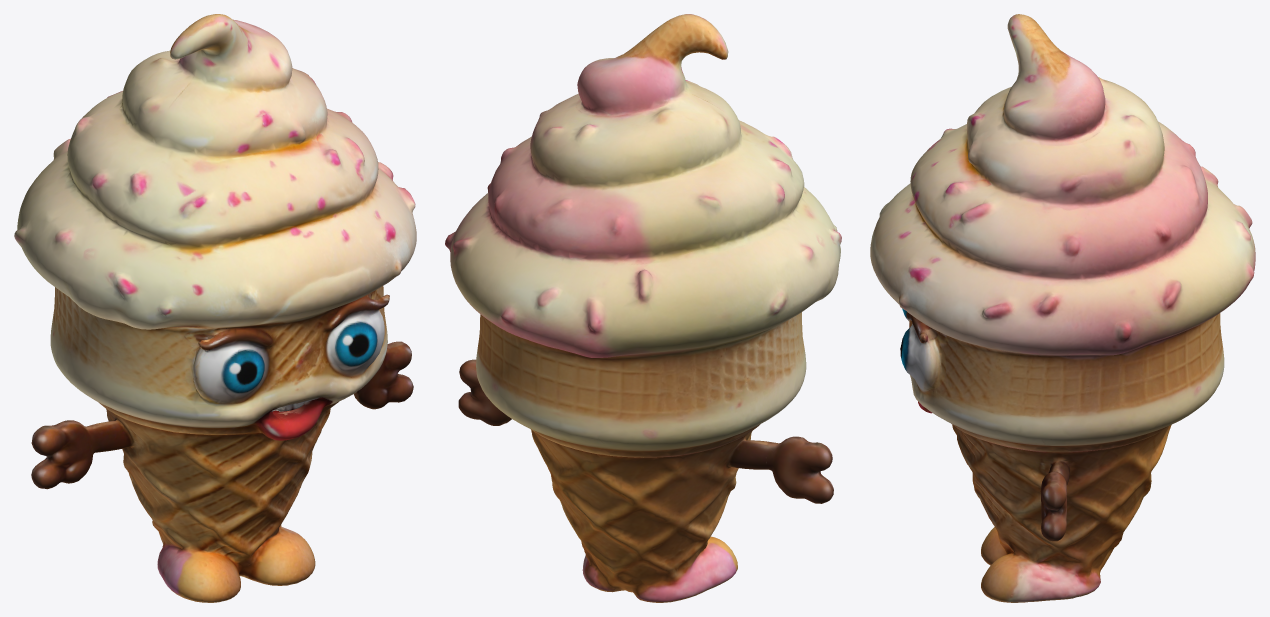
Rendered from second.glb.
3 renders of one model, left to right at view 1: azimuth 30°, elevation 25°; view 2: azimuth 150°, elevation 25°; view 3: azimuth 270°, elevation 25°, orthographic. The views are drawn at different scales.
Bounding box in the file's own units: 0.7491 × 1.08 × 0.6886.
Materials: 1 (1 with a texture image).
